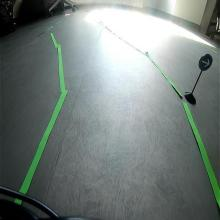right: (198, 54, 213, 72)
